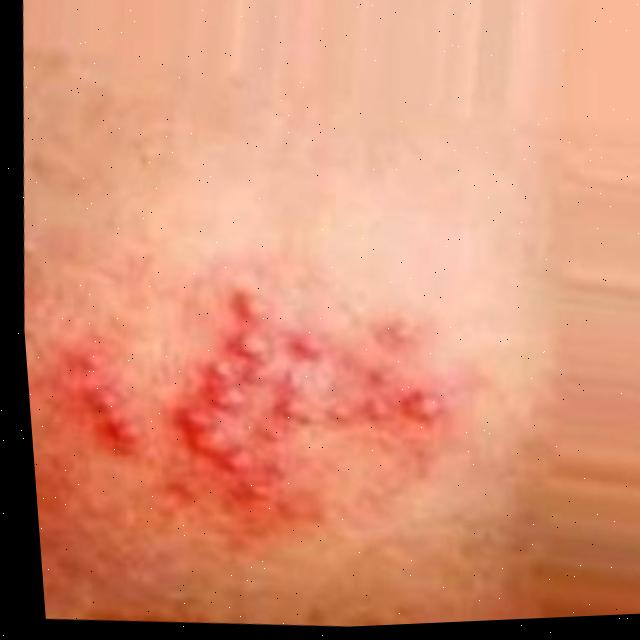Shingles: (36, 258, 469, 563)
